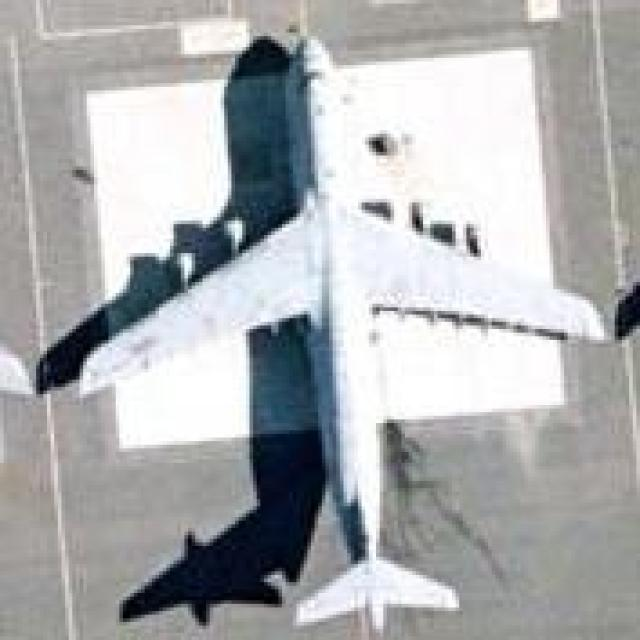C-5_TopDown: (34, 25, 609, 633)
